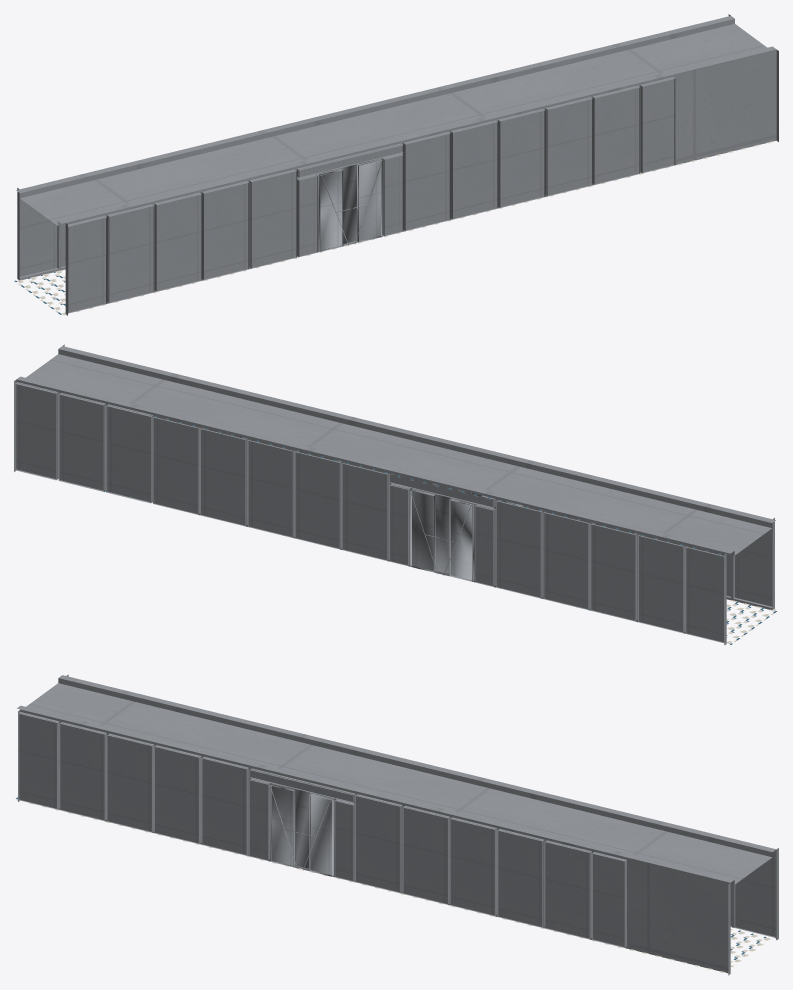
The model's file is SW_corridor__R_lobby_DOUBLE_DOOR_GREEN_001_001.FBX.
The picture shows the model from 3 angles, top to bottom: view 1: azimuth 30°, elevation 25°; view 2: azimuth 150°, elevation 25°; view 3: azimuth 330°, elevation 25°; orthographic projection.
Visible parts, largest first — view 1: SW_corridor__R_lobby_DOUBLE_DOOR_GREEN_001_001; view 2: SW_corridor__R_lobby_DOUBLE_DOOR_GREEN_001_001; view 3: SW_corridor__R_lobby_DOUBLE_DOOR_GREEN_001_001.
Part boxes in pixels (<box>): SW_corridor__R_lobby_DOUBLE_DOOR_GREEN_001_001: <box>14,14,778,315</box>; SW_corridor__R_lobby_DOUBLE_DOOR_GREEN_001_001: <box>14,344,777,645</box>; SW_corridor__R_lobby_DOUBLE_DOOR_GREEN_001_001: <box>16,674,778,975</box>.
Size of the model in its own units: 2271 by 288 by 277.
